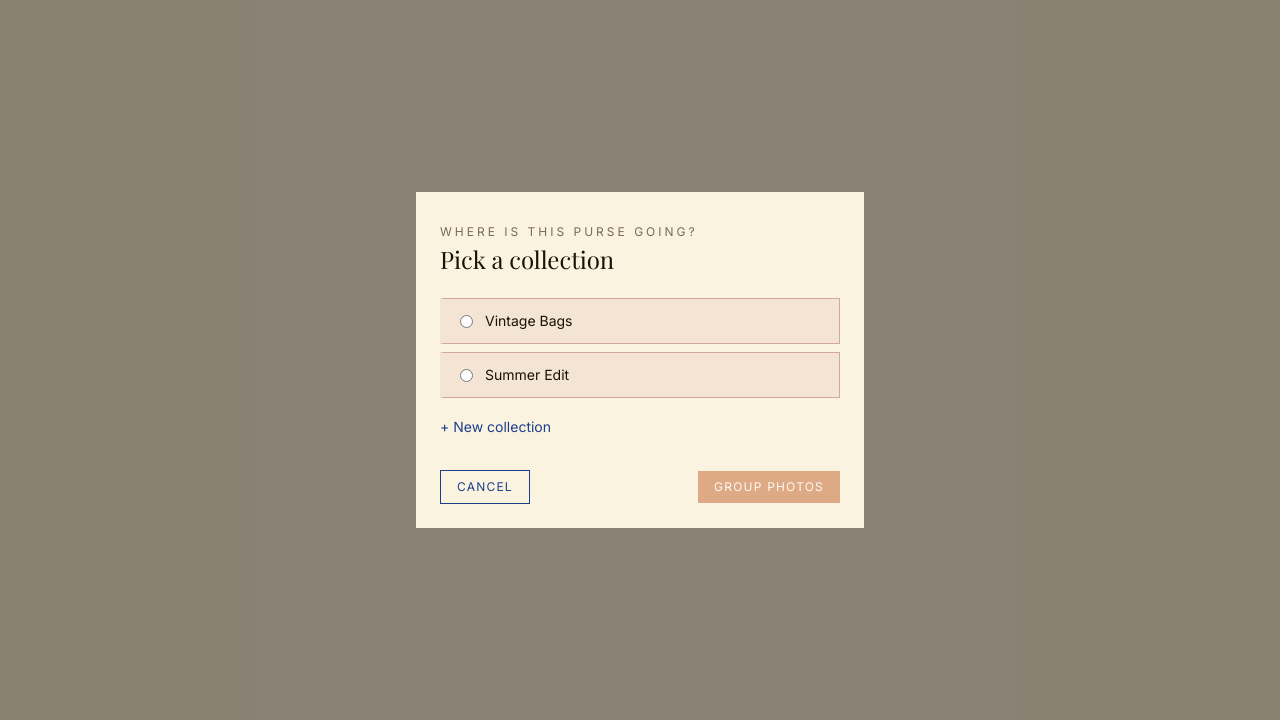
Scenario: CollectionPickerModal › expanding "+ New collection" reveals name and description inputs and a Create button
Step 1. Click the button "+ New collection" → (496, 427), box [440,417,551,437]
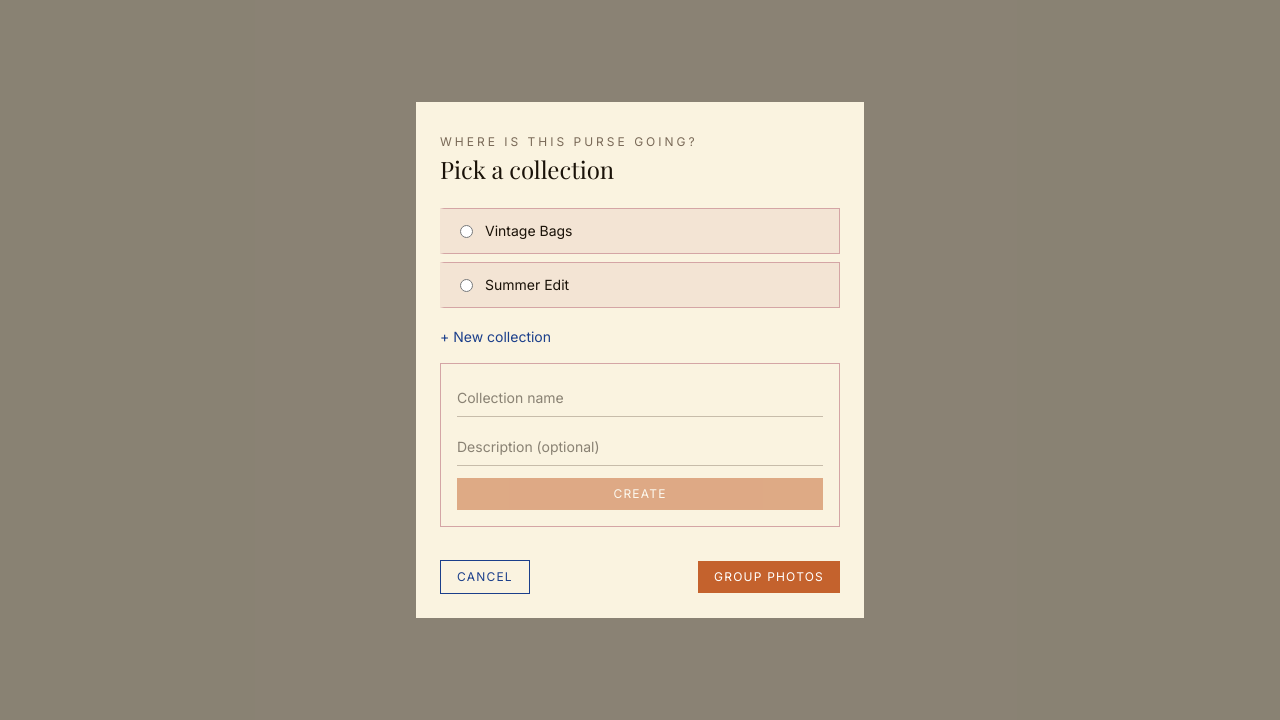
expect the field with placeholder "Collection name" is shown: met, box [457,380,823,417]
expect the button "Create" is shown: met, box [457,478,823,510]
